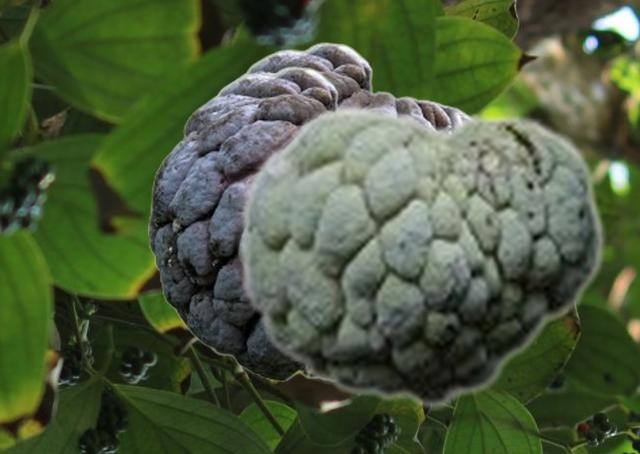atis: (237, 103, 605, 409), (148, 65, 340, 380), (213, 41, 470, 126)
